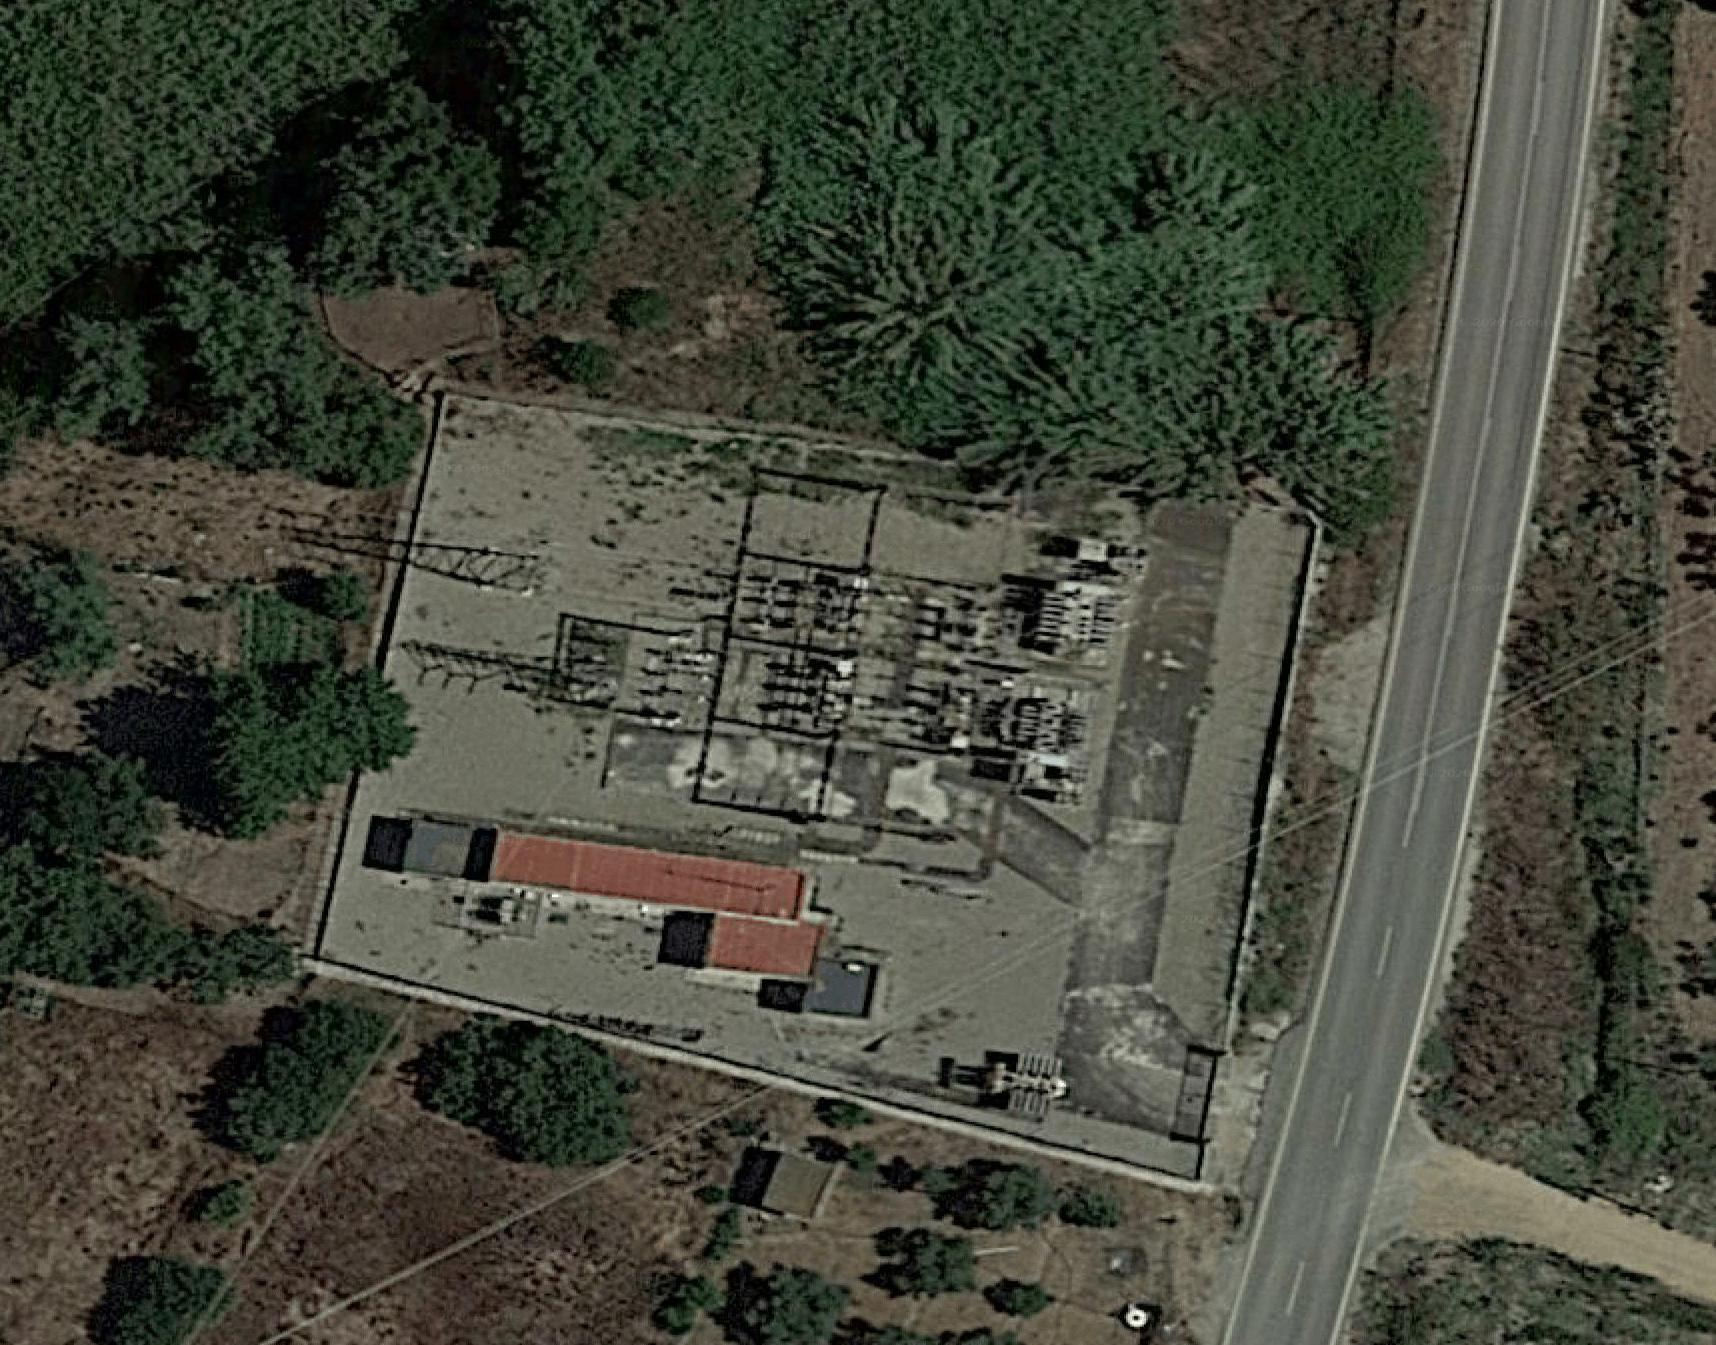substation: (394, 457, 1157, 897)
